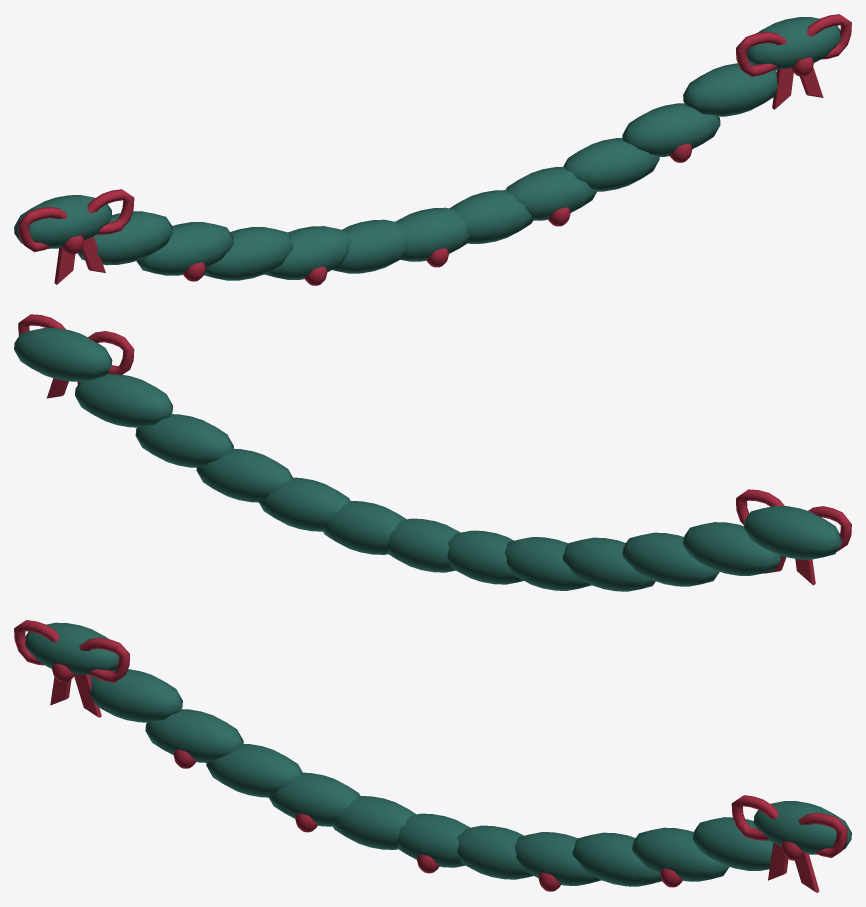
The model's file is christmas-storybook-mantel-garland-78cc0731.glb.
The picture shows the model from 3 angles, top to bottom: view 1: azimuth 30°, elevation 25°; view 2: azimuth 150°, elevation 25°; view 3: azimuth 330°, elevation 25°; orthographic projection.
Parts seen in each view (by area): view 1: pine, berry; view 2: pine, berry; view 3: pine, berry.
Part boxes in pixels (x1,y1,x2,y2): pine: [14, 17, 840, 280]; berry: [18, 14, 851, 285]; pine: [14, 327, 841, 591]; berry: [18, 314, 851, 585]; pine: [25, 622, 851, 886]; berry: [14, 620, 847, 892].
Bounding box in the file's own units: 2.73 × 0.4806 × 0.1651.
